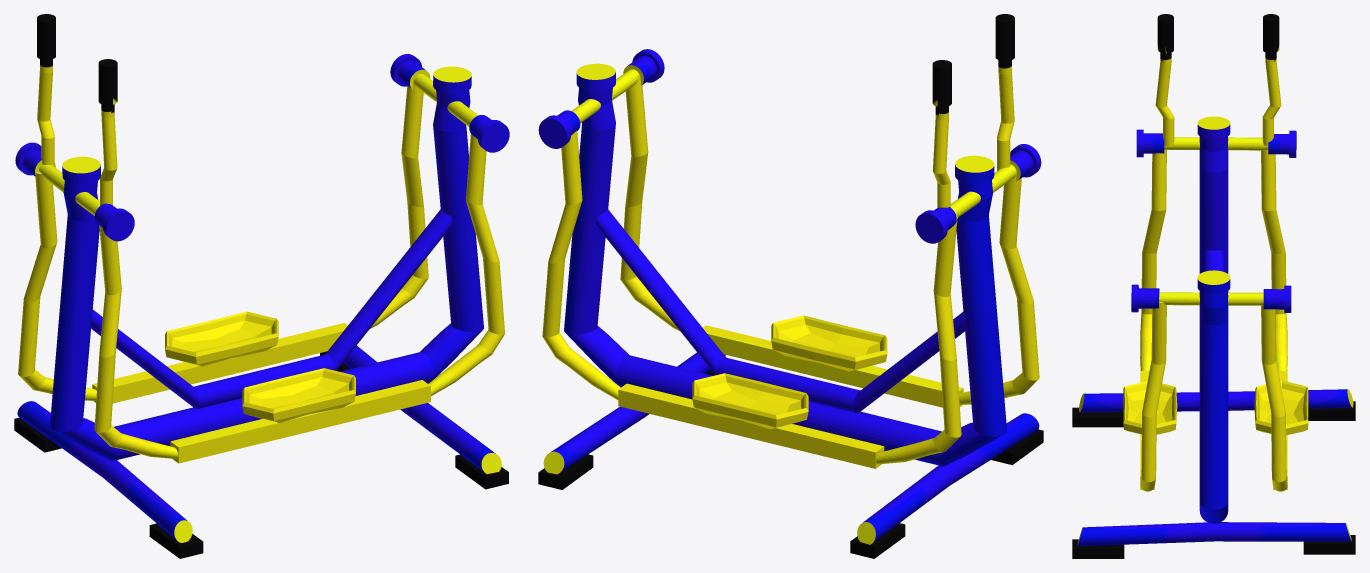
File: simulador de esqui.fbx
The picture shows the model from 3 angles, left to right: view 1: azimuth 30°, elevation 25°; view 2: azimuth 150°, elevation 25°; view 3: azimuth 270°, elevation 25°; orthographic projection. The views are drawn at different scales.
Parts seen in each view (by area): view 1: Esqui_LOD0; view 2: Esqui_LOD0; view 3: Esqui_LOD0.
Part boxes in pixels (x1,y1,x2,y2): Esqui_LOD0: (14,14,509,558); Esqui_LOD0: (538,14,1043,558); Esqui_LOD0: (1072,14,1355,558).
Size of the model in its own units: 365 by 377 by 244.
1 material, 1 textured.
